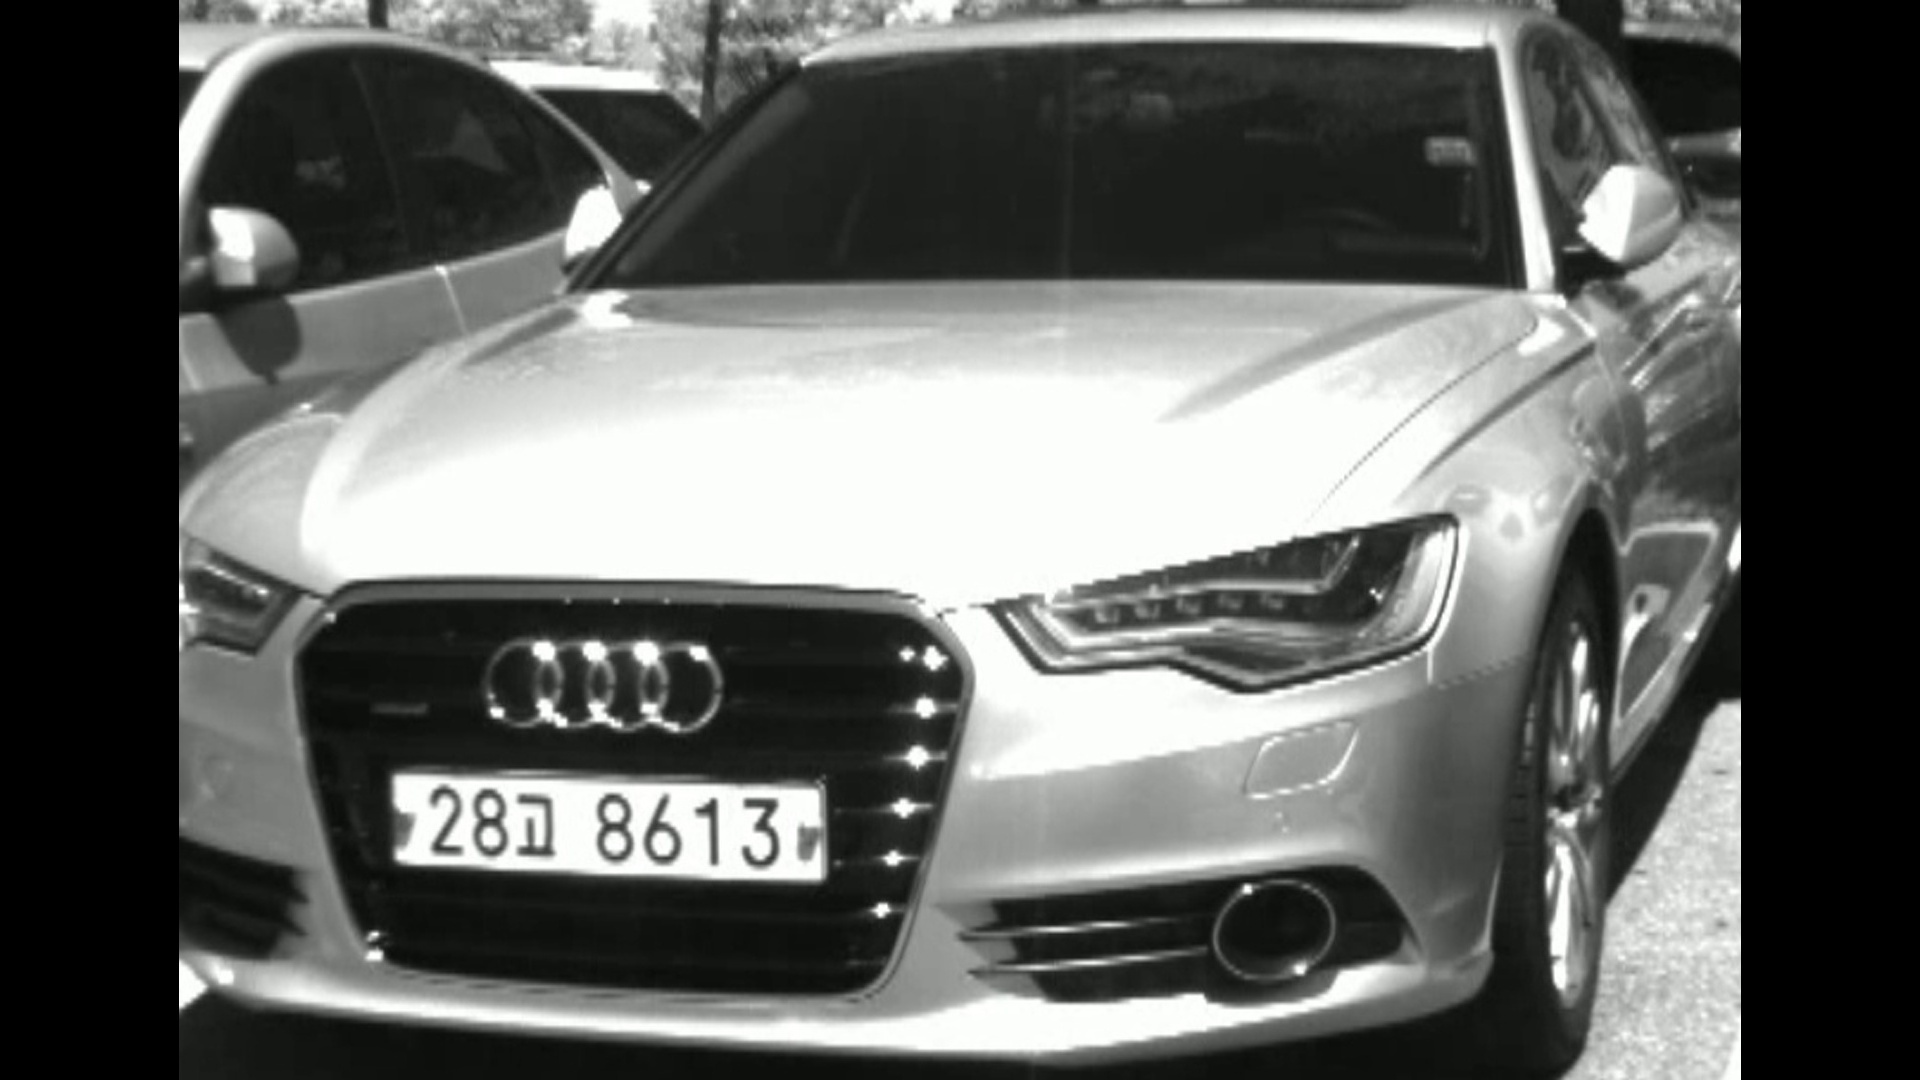license_plate: (382, 761, 833, 888)
